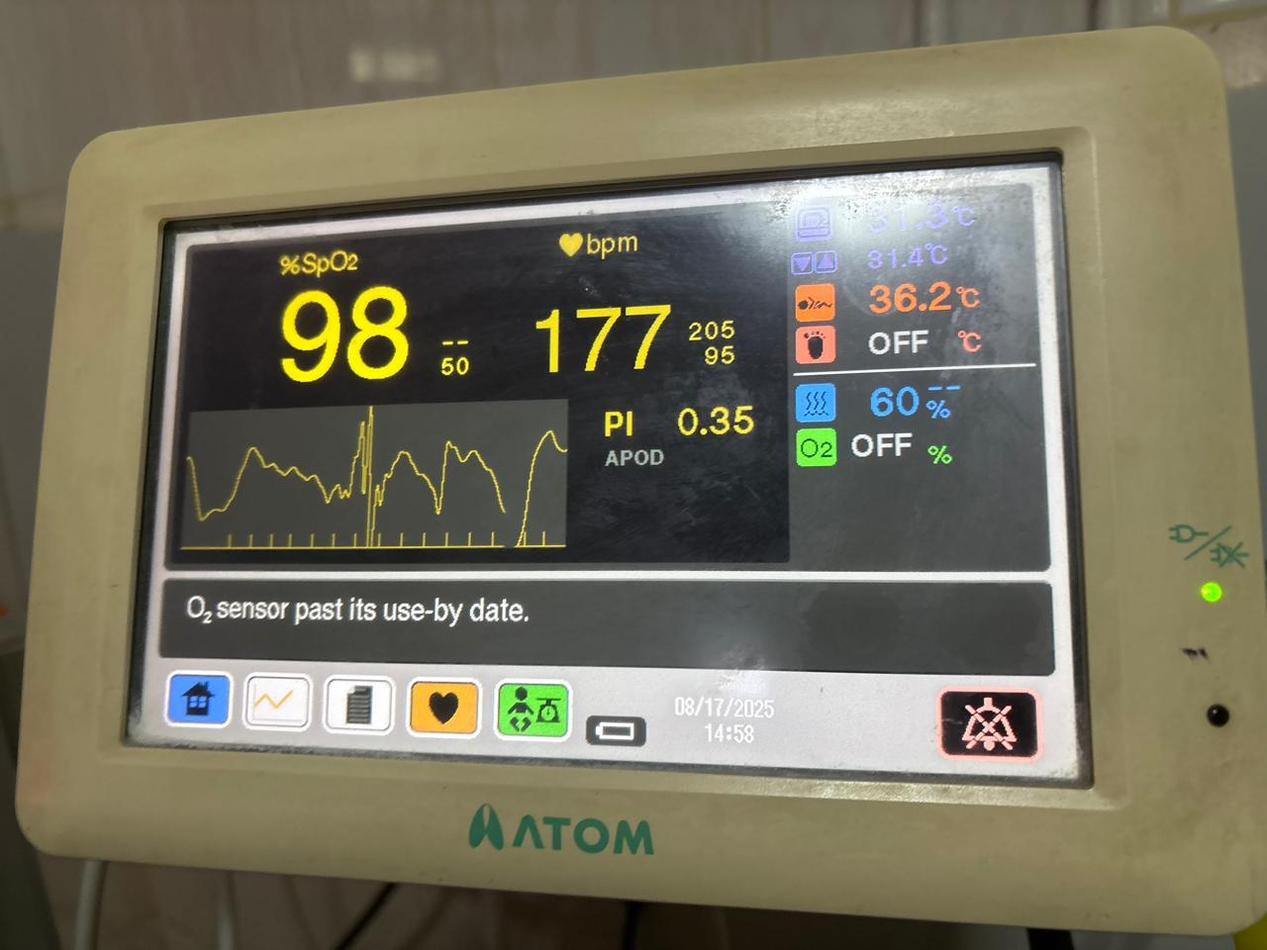air_temp_value: (846, 188, 956, 245)
heart_rate_value: (513, 288, 688, 384)
humidity_value: (854, 375, 922, 423)
skin_temp_value: (854, 268, 959, 322)
spo2_value: (255, 277, 420, 388)
